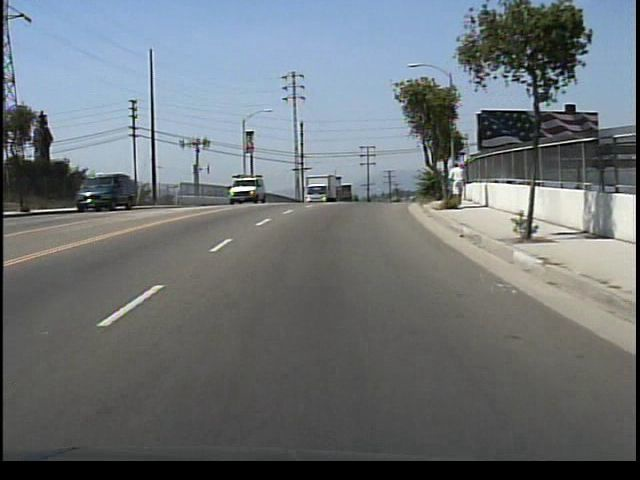person: (448, 160, 469, 207)
